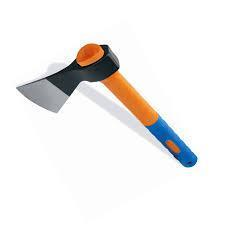machado: (16, 44, 196, 166)
